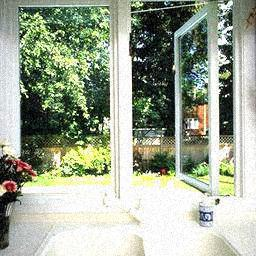Electrodomestico: (44, 191, 244, 253)
